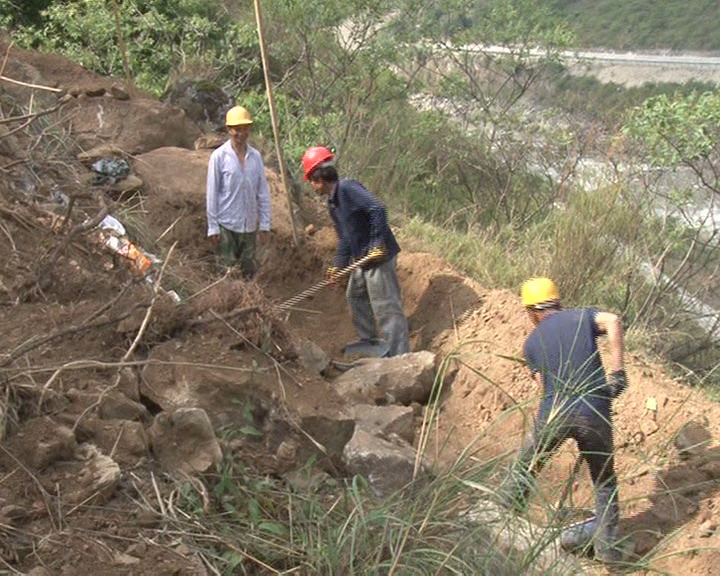red: (295, 145, 338, 194)
yellow: (516, 276, 566, 325), (222, 105, 254, 143)
